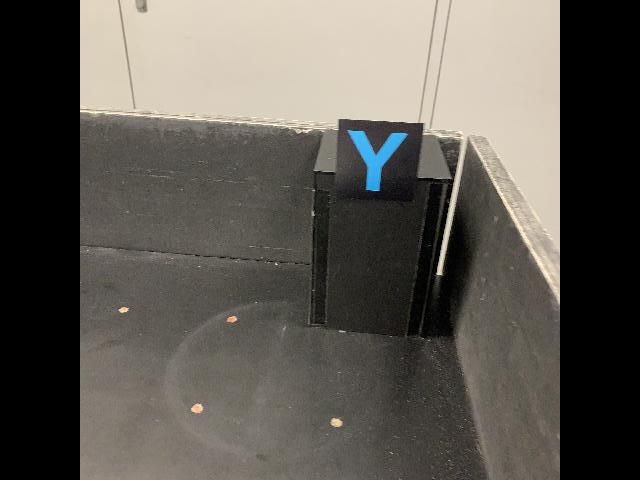y: (333, 117, 425, 205)
